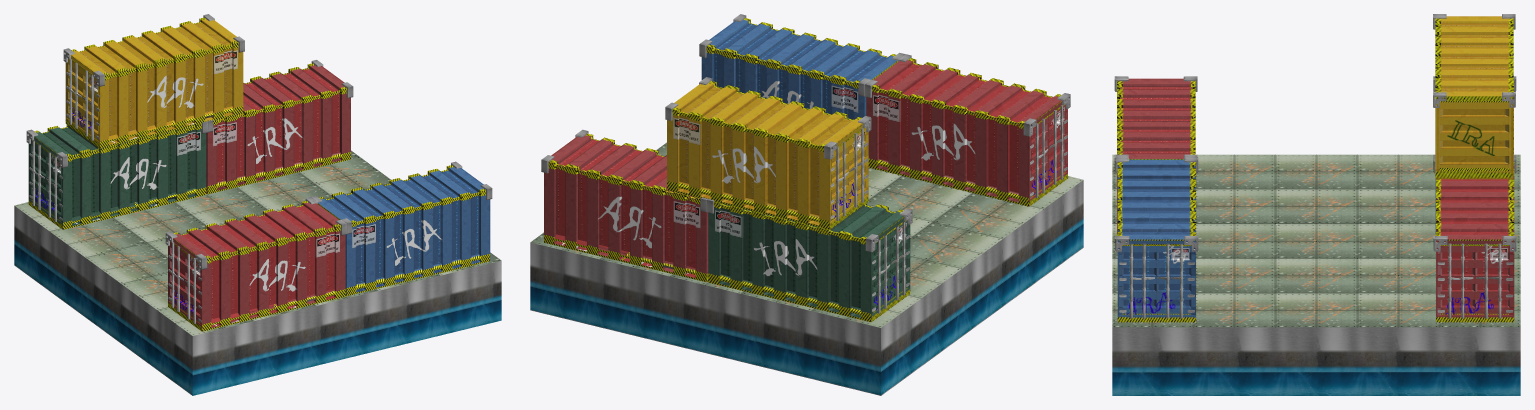
File: tile Hallway(1).fbx
The picture shows the model from 3 angles, left to right: view 1: azimuth 30°, elevation 25°; view 2: azimuth 150°, elevation 25°; view 3: azimuth 270°, elevation 25°; orthographic projection. The views are drawn at different scales.
Visible parts, largest first — view 1: Cube, Cube.003, Cube.001, Cube.002, Cube.005, Cube.004; view 2: Cube, Cube.003, Cube.001, Cube.005, Cube.004, Cube.002; view 3: Cube, Cube.002, Cube.003, Cube.004, Cube.001.
Part boxes in pixels (<box>): Cube: <box>14,150,501,395</box>; Cube.003: <box>63,14,244,148</box>; Cube.001: <box>165,197,347,331</box>; Cube.002: <box>311,161,492,295</box>; Cube.005: <box>26,121,207,229</box>; Cube.004: <box>206,60,353,194</box>; Cube: <box>530,142,1083,395</box>; Cube.003: <box>665,77,871,229</box>; Cube.001: <box>864,54,1070,206</box>; Cube.005: <box>706,199,912,322</box>; Cube.004: <box>541,129,708,282</box>; Cube.002: <box>699,14,905,119</box>; Cube: <box>1112,154,1520,395</box>; Cube.002: <box>1115,157,1198,322</box>; Cube.003: <box>1433,14,1515,179</box>; Cube.004: <box>1433,157,1516,322</box>; Cube.001: <box>1114,76,1197,235</box>.
Bounding box in the file's own units: 20000 × 12732 × 20000.
